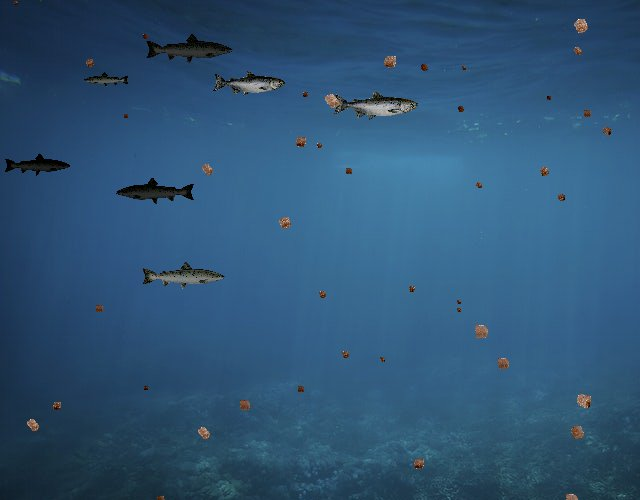Fish: (145, 33, 235, 65), (140, 260, 226, 291), (332, 90, 418, 121), (116, 177, 197, 206), (212, 71, 285, 97), (3, 152, 71, 177), (84, 72, 131, 89)
Pellet: (316, 86, 346, 116), (467, 318, 495, 346), (491, 352, 515, 376), (195, 157, 219, 181), (534, 161, 554, 181), (313, 140, 326, 153), (454, 304, 464, 314)
